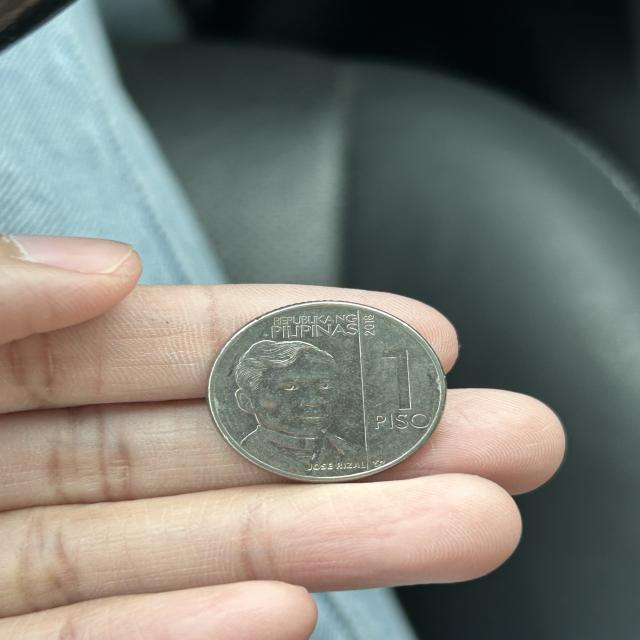1_New_Front: (365, 340, 441, 433)
